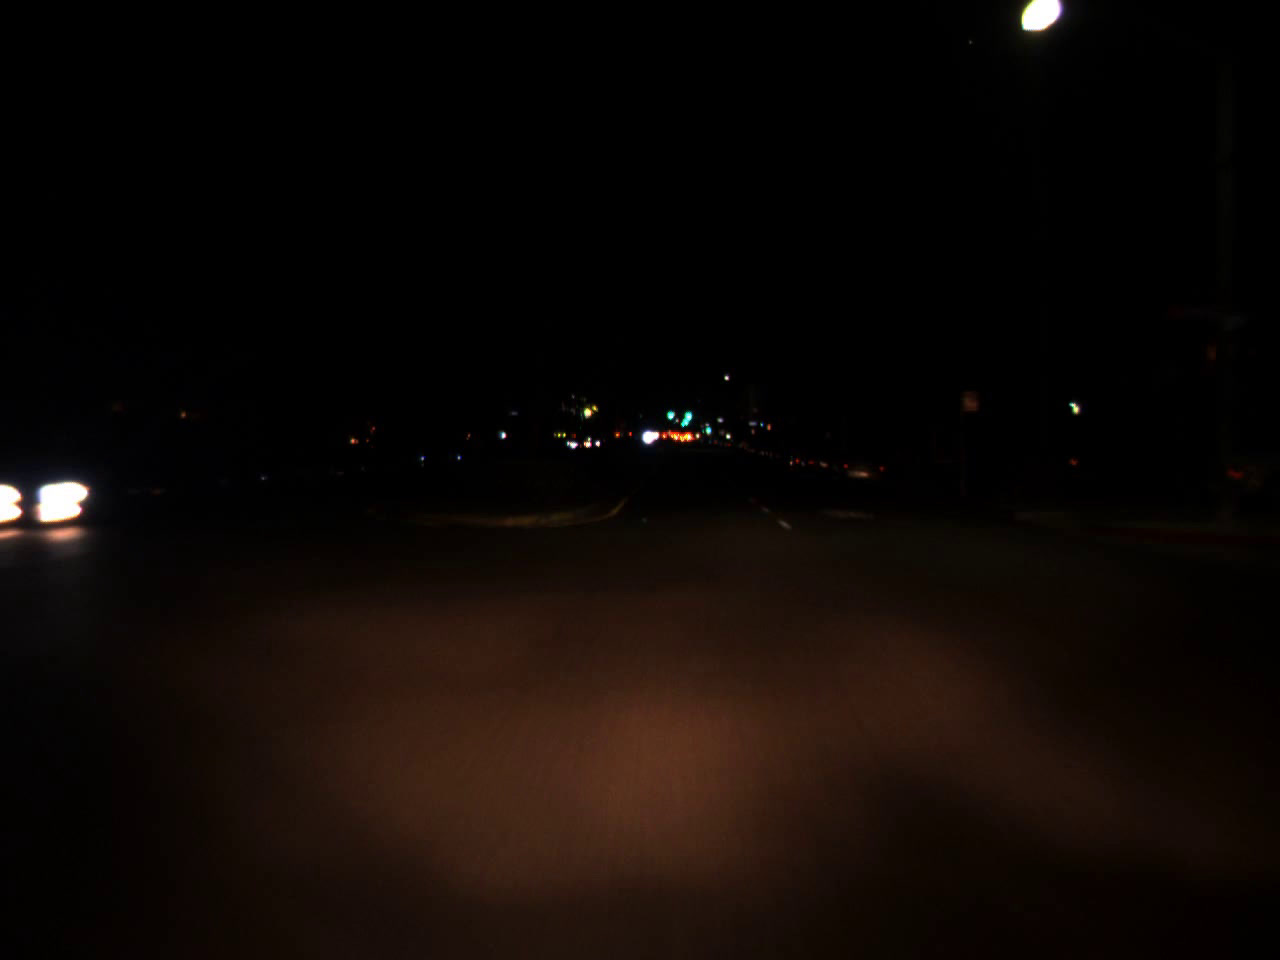go: (681, 398, 695, 422), (665, 400, 675, 424)
